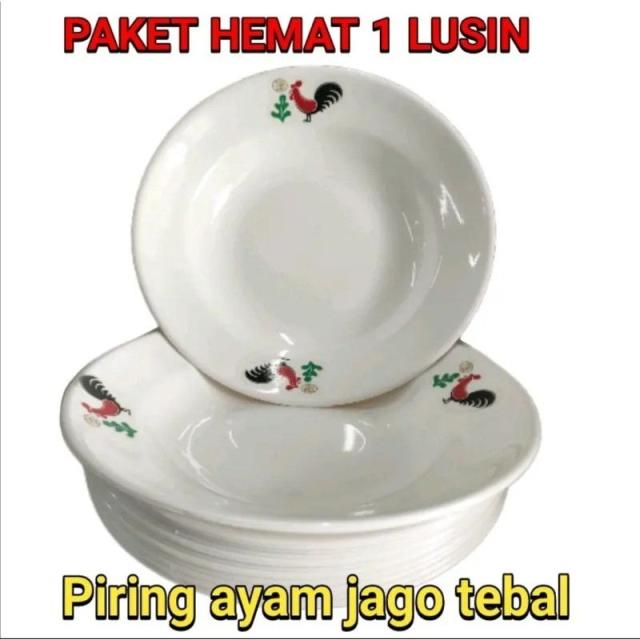Piring: (121, 69, 530, 422), (56, 317, 534, 614)
